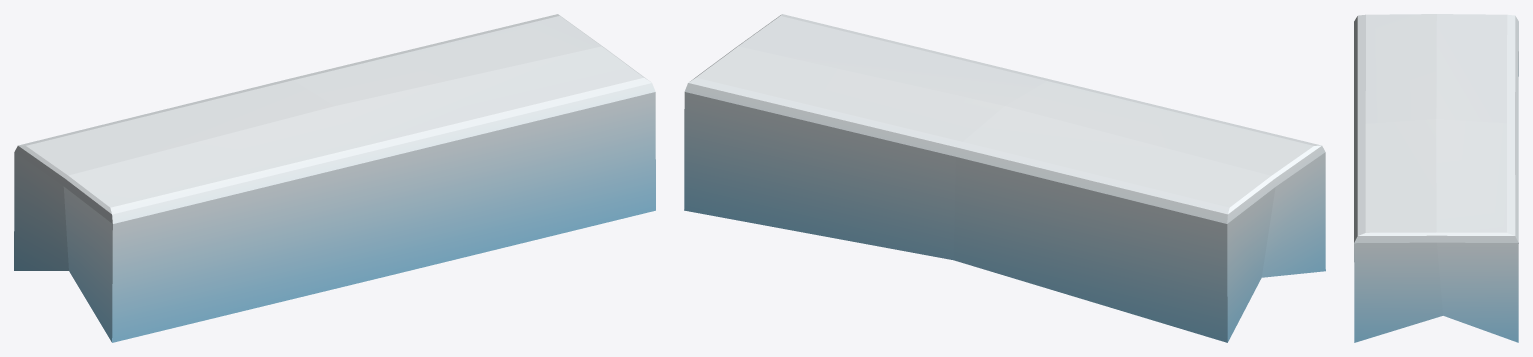
The model's file is SM_Tablecloth_Blue.fbx.
3 renders of one model, left to right at view 1: azimuth 30°, elevation 25°; view 2: azimuth 150°, elevation 25°; view 3: azimuth 270°, elevation 25°, orthographic. The views are drawn at different scales.
Parts seen in each view (by area): view 1: Tablecloth_blue_mash; view 2: Tablecloth_blue_mash; view 3: Tablecloth_blue_mash.
Boxes of the visible parts, x1,y1,x2,y2 form: Tablecloth_blue_mash: (14, 14, 655, 342); Tablecloth_blue_mash: (684, 14, 1325, 342); Tablecloth_blue_mash: (1354, 14, 1518, 342).
Size of the model in its own units: 2.03 by 0.481 by 0.6358.
